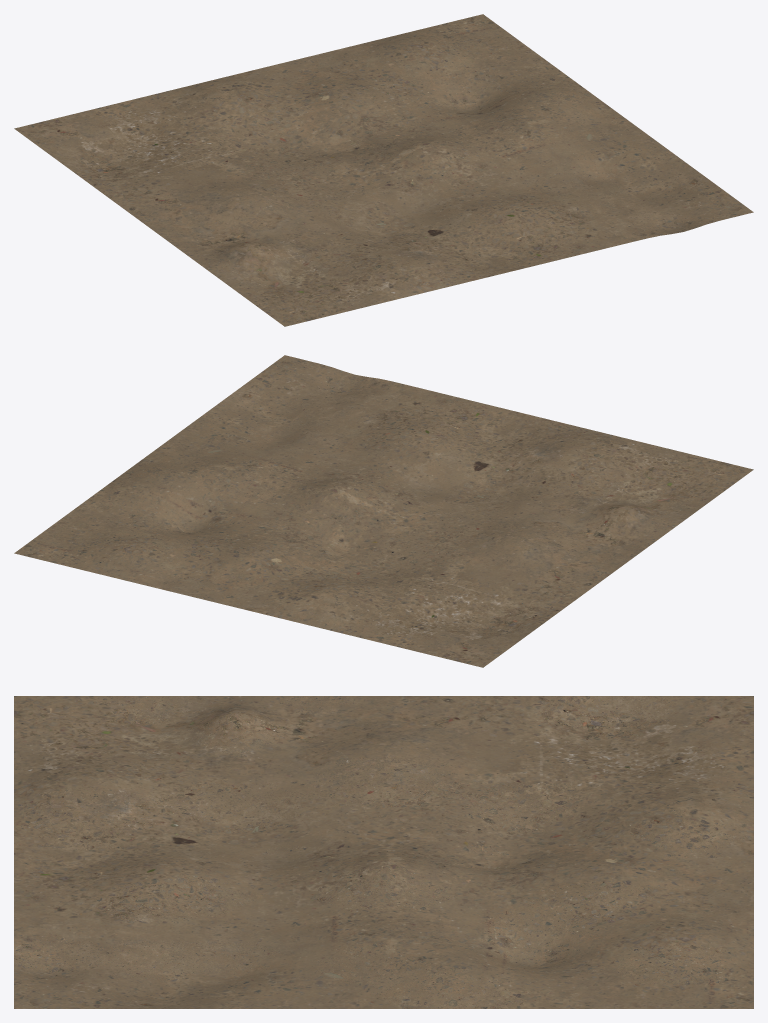
The model's file is ground.fbx.
3 renders of one model, top to bottom at view 1: azimuth 30°, elevation 25°; view 2: azimuth 150°, elevation 25°; view 3: azimuth 270°, elevation 25°, orthographic. The views are drawn at different scales.
Parts seen in each view (by area): view 1: pPlane1; view 2: pPlane1; view 3: pPlane1.
Boxes of the visible parts, left/top/right/bottom form: pPlane1: left=14, top=14, right=753, bottom=326; pPlane1: left=14, top=355, right=753, bottom=667; pPlane1: left=14, top=696, right=753, bottom=1008.
Size of the model in its own units: 50 by 2.73 by 50.
